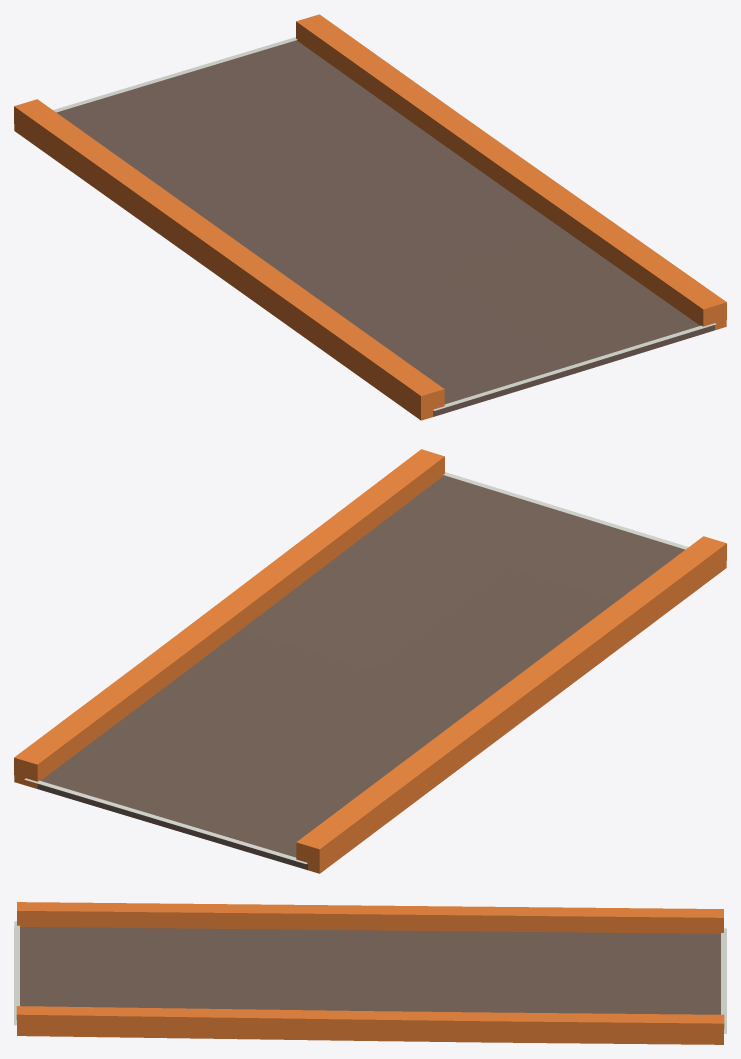
The model's file is SM_MP_Film_C_5_3.fbx.
The picture shows the model from 3 angles, top to bottom: view 1: azimuth 30°, elevation 25°; view 2: azimuth 150°, elevation 25°; view 3: azimuth 270°, elevation 25°; orthographic projection. The views are drawn at different scales.
Parts seen in each view (by area): view 1: SM_MP_Film_C_5_3; view 2: SM_MP_Film_C_5_3; view 3: SM_MP_Film_C_5_3.
Boxes of the visible parts, x1=… form: SM_MP_Film_C_5_3: x1=14, y1=14, x2=726, y2=420; SM_MP_Film_C_5_3: x1=14, y1=449, x2=726, y2=873; SM_MP_Film_C_5_3: x1=14, y1=902, x2=726, y2=1044.
Size of what is drawn, in the model's own units: 260 by 605 by 42.39.
